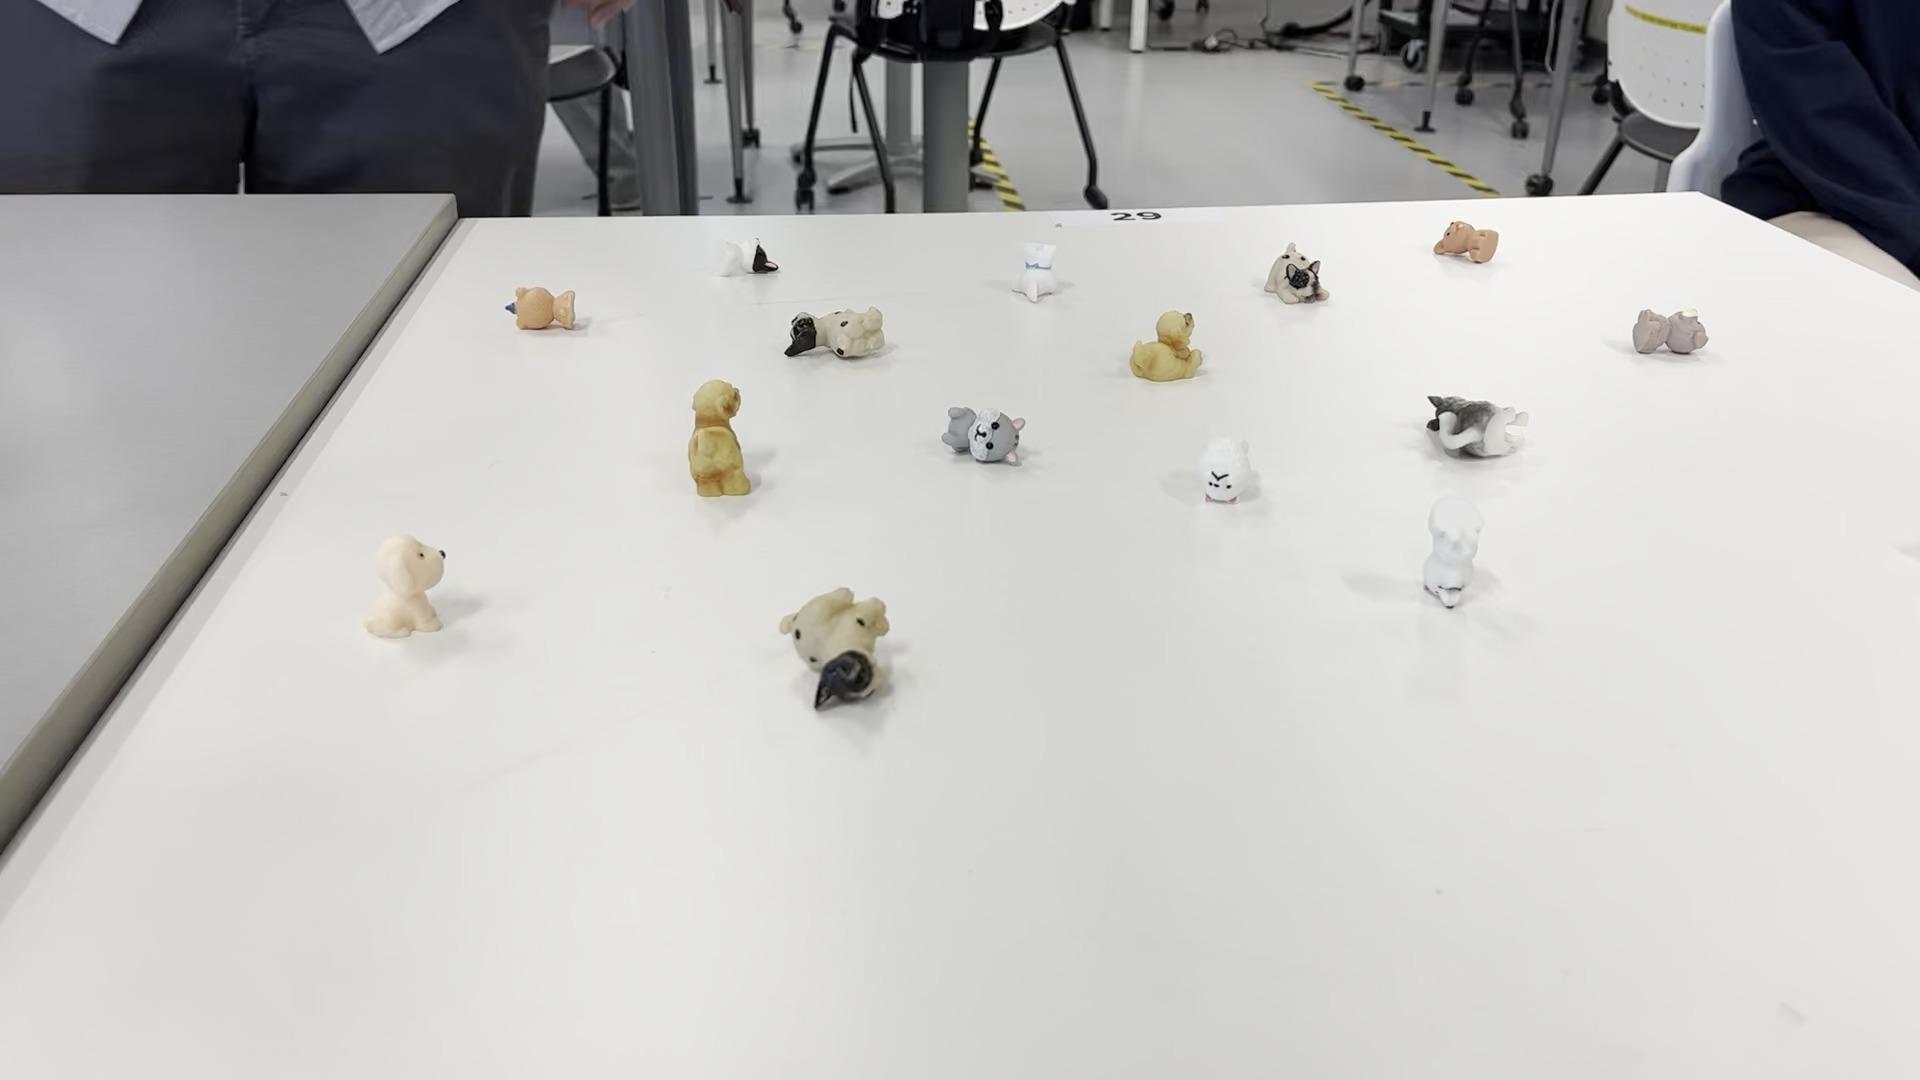pet: (781, 592, 898, 741), (357, 522, 452, 662), (682, 369, 758, 526), (1418, 389, 1536, 471), (942, 392, 1038, 477), (1201, 422, 1263, 526), (501, 276, 585, 347), (1627, 302, 1716, 367), (787, 309, 881, 367), (1428, 512, 1481, 611), (1134, 313, 1203, 382), (1011, 236, 1069, 306), (1267, 245, 1333, 306), (721, 229, 791, 286), (1444, 215, 1507, 273)
